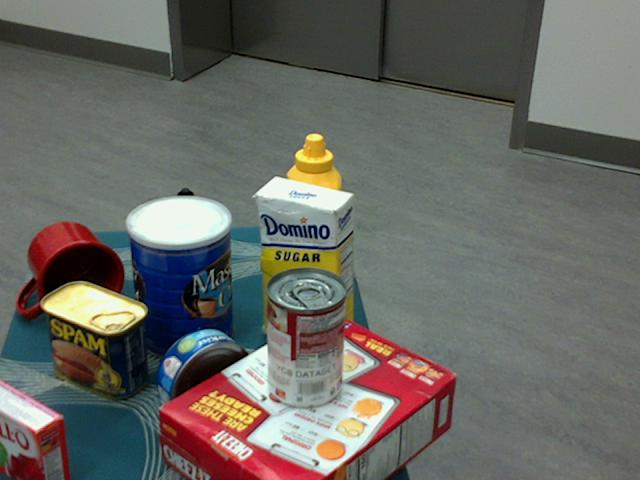cracker_box: (159, 311, 457, 479)
gelatin_box: (0, 377, 70, 479)
large_marker: (177, 187, 197, 284)
master_chef_can: (125, 196, 232, 363)
mug: (19, 221, 124, 320)
mustard_bottle: (284, 133, 339, 310)
potted_meat_can: (40, 280, 147, 398)
sugar_box: (256, 176, 353, 359)
tomato_soup_can: (264, 268, 346, 409)
tuna_fish_can: (156, 329, 252, 426)
